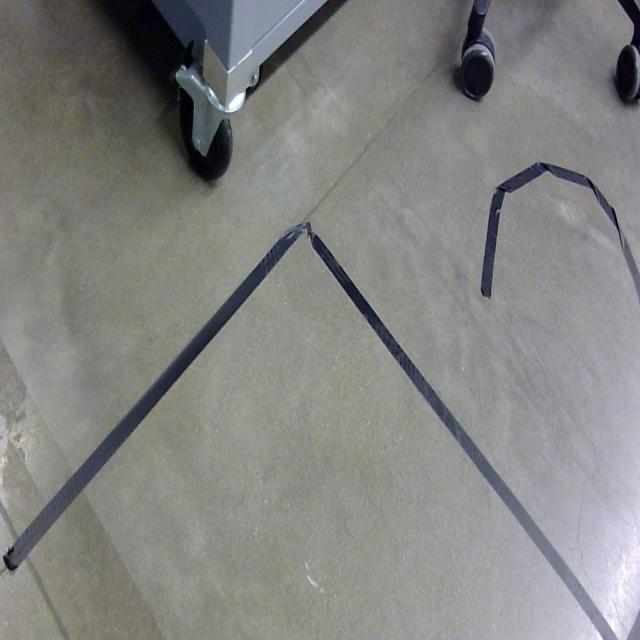tape: (305, 221, 620, 640), (2, 228, 305, 575), (480, 162, 640, 308)
